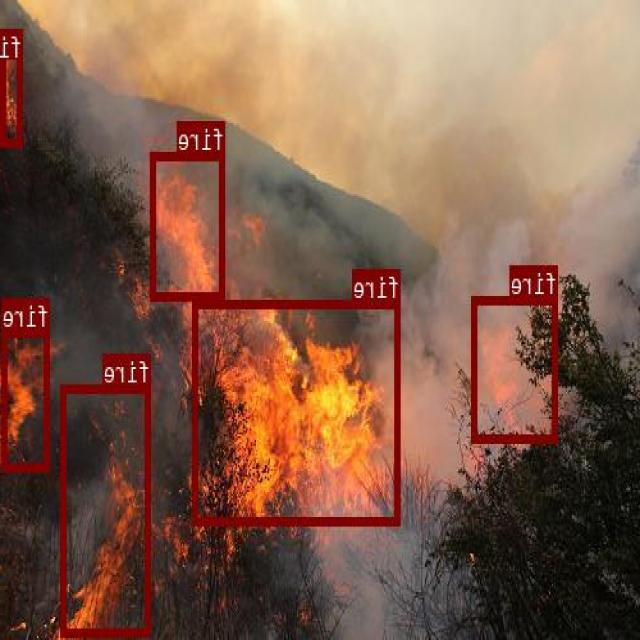fire: (194, 298, 401, 524), (62, 383, 152, 636), (473, 295, 558, 441), (152, 150, 226, 299), (2, 328, 50, 470), (3, 29, 24, 144)
